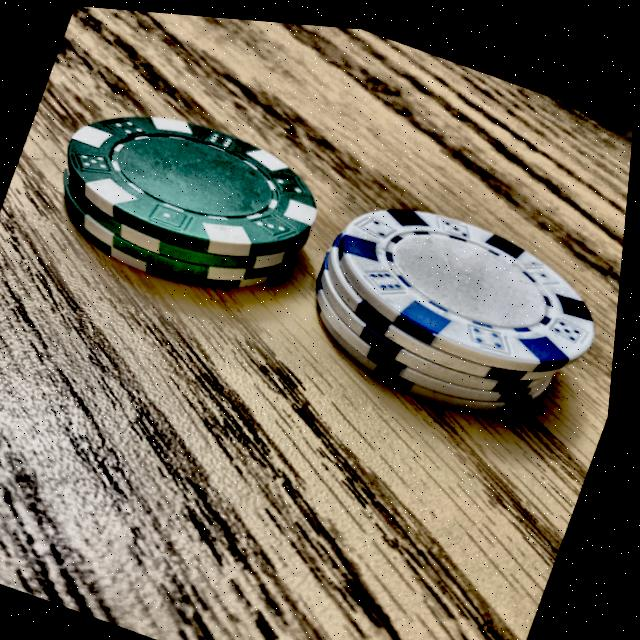Chip: (266, 150, 631, 473), (26, 61, 358, 345)
